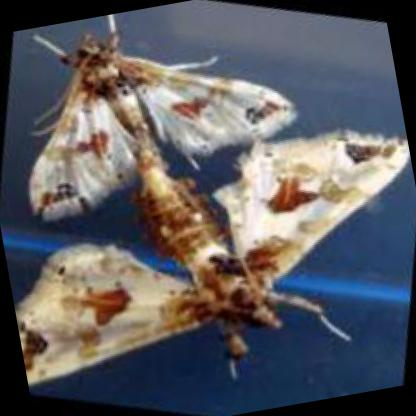leucinodes: (13, 134, 405, 390), (25, 34, 296, 221)
